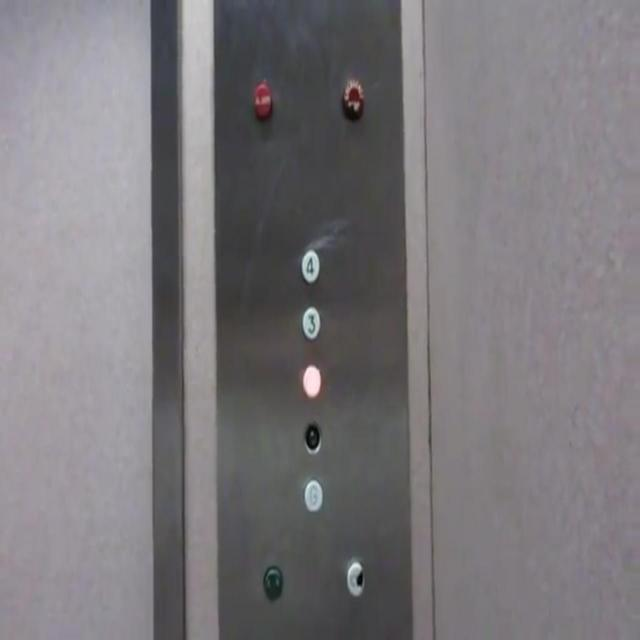3: (298, 303, 324, 342)
4: (297, 247, 322, 286)
G: (301, 476, 326, 514)
blur: (260, 562, 285, 602), (343, 559, 368, 598)
empty: (300, 360, 324, 399)
indicator: (300, 418, 324, 458)
text: (250, 80, 276, 122)
text_blur: (338, 73, 368, 123)
